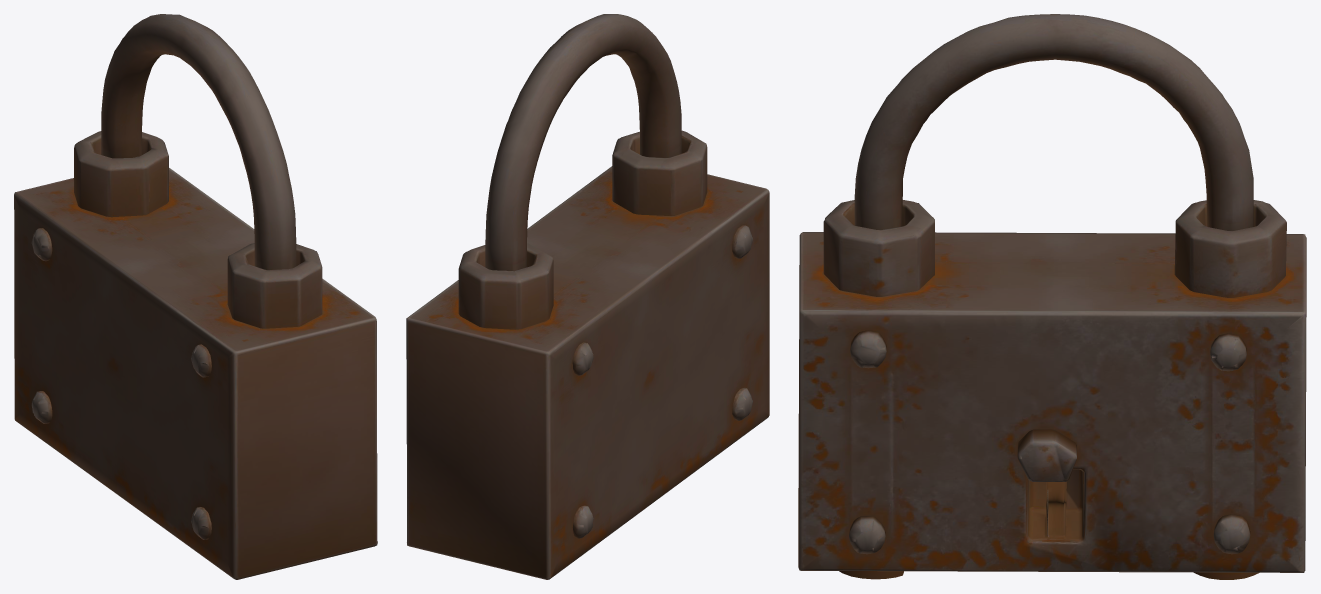
Rendered from Prop_Padlock.glb.
The picture shows the model from 3 angles, left to right: view 1: azimuth 30°, elevation 25°; view 2: azimuth 150°, elevation 25°; view 3: azimuth 270°, elevation 25°; orthographic projection. The views are drawn at different scales.
Parts seen in each view (by area): view 1: tripo_node_fb052cdd-7346-49bf-813a-73097264bd5e; view 2: tripo_node_fb052cdd-7346-49bf-813a-73097264bd5e; view 3: tripo_node_fb052cdd-7346-49bf-813a-73097264bd5e.
Boxes of the visible parts, x1=… form: tripo_node_fb052cdd-7346-49bf-813a-73097264bd5e: x1=14, y1=14, x2=377, y2=579; tripo_node_fb052cdd-7346-49bf-813a-73097264bd5e: x1=406, y1=14, x2=769, y2=579; tripo_node_fb052cdd-7346-49bf-813a-73097264bd5e: x1=798, y1=14, x2=1306, y2=579.
Bounding box in the file's own units: 0.0795 × 0.2 × 0.1734.
1 material, 1 textured.
